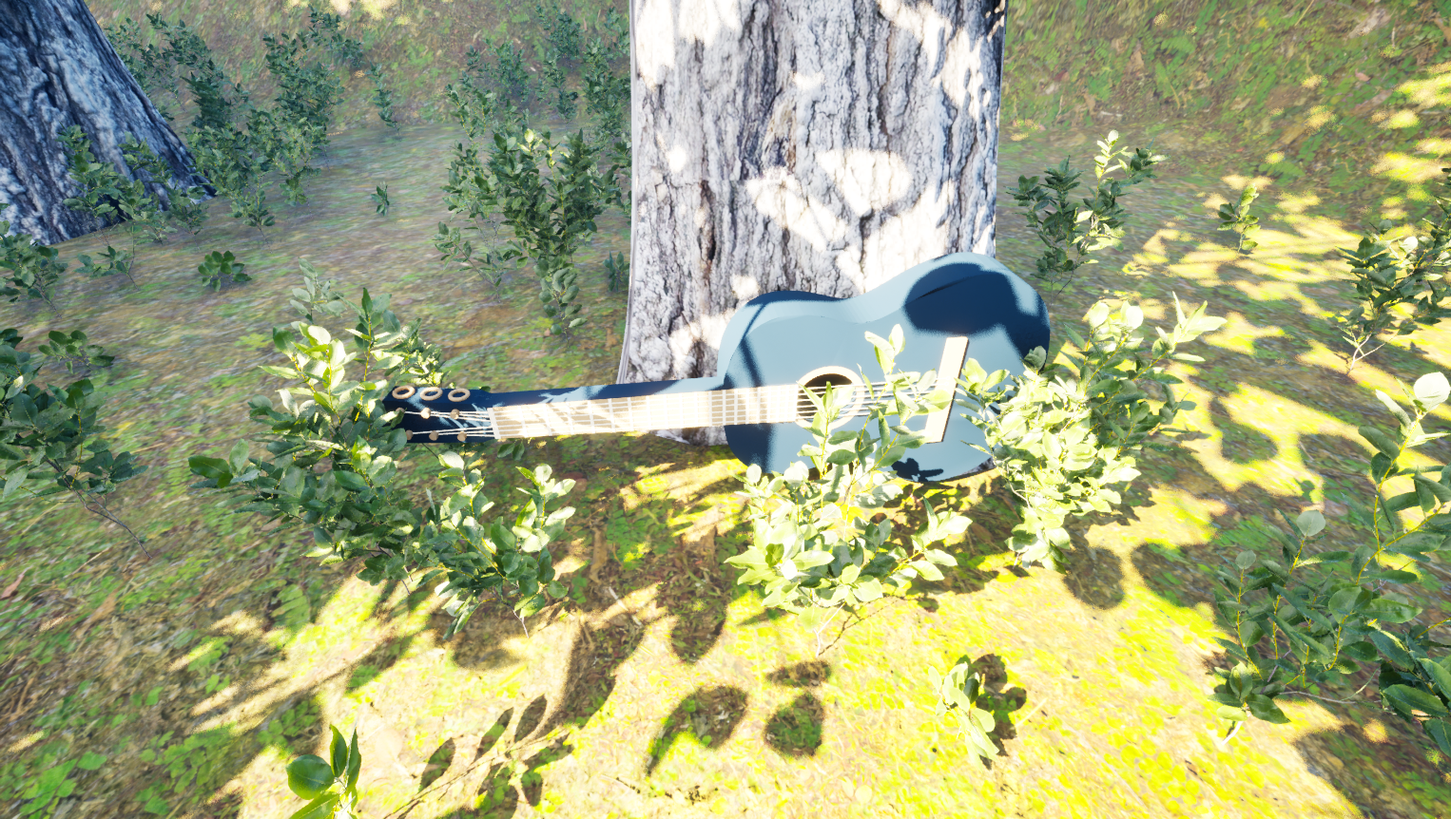Guitar: (317, 248, 1083, 532)
